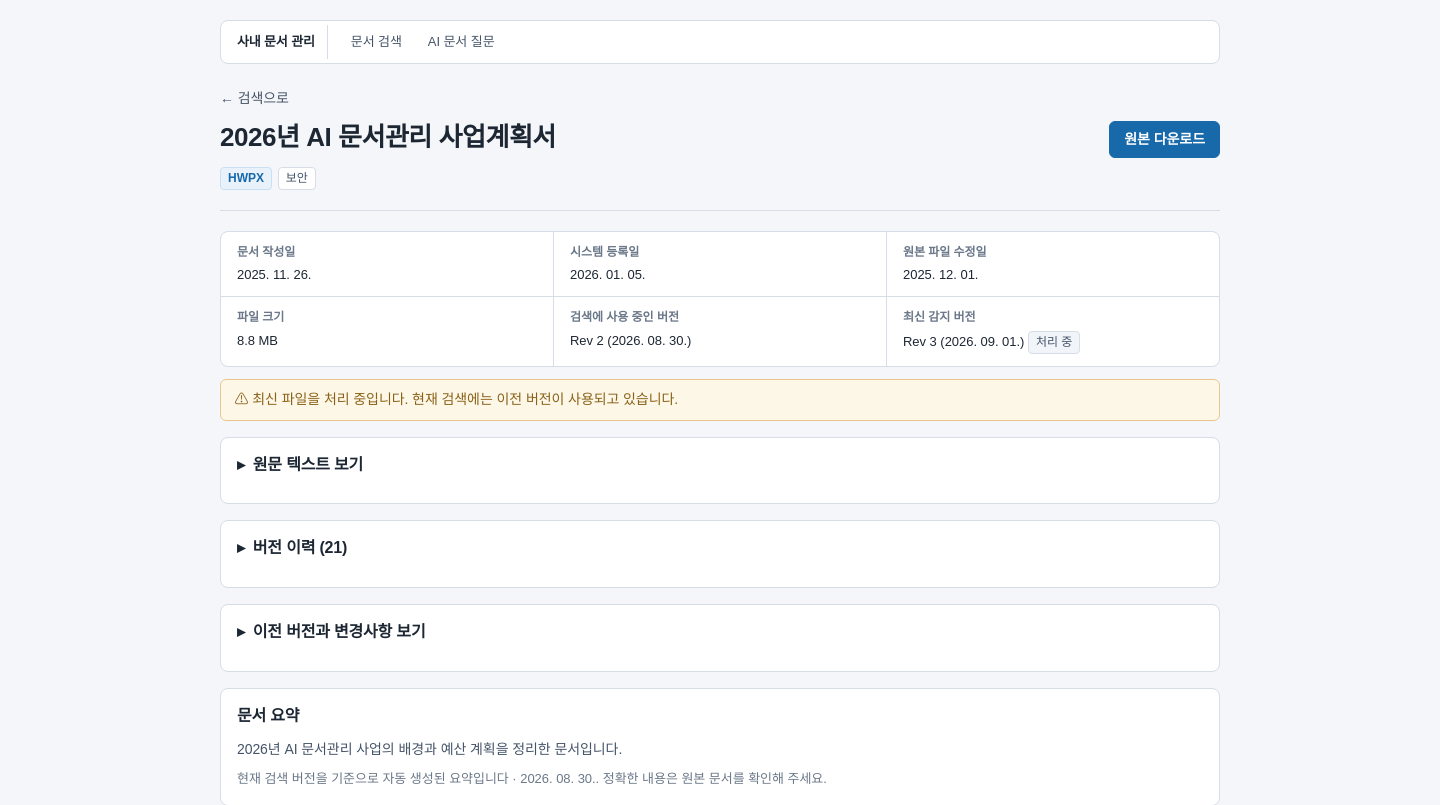
Test: DocumentPage › fetches older revisions using the history pagination envelope
Click the button "▸ 버전 이력 (21)". click: click(289, 548)
box: [237,538,1203,559]
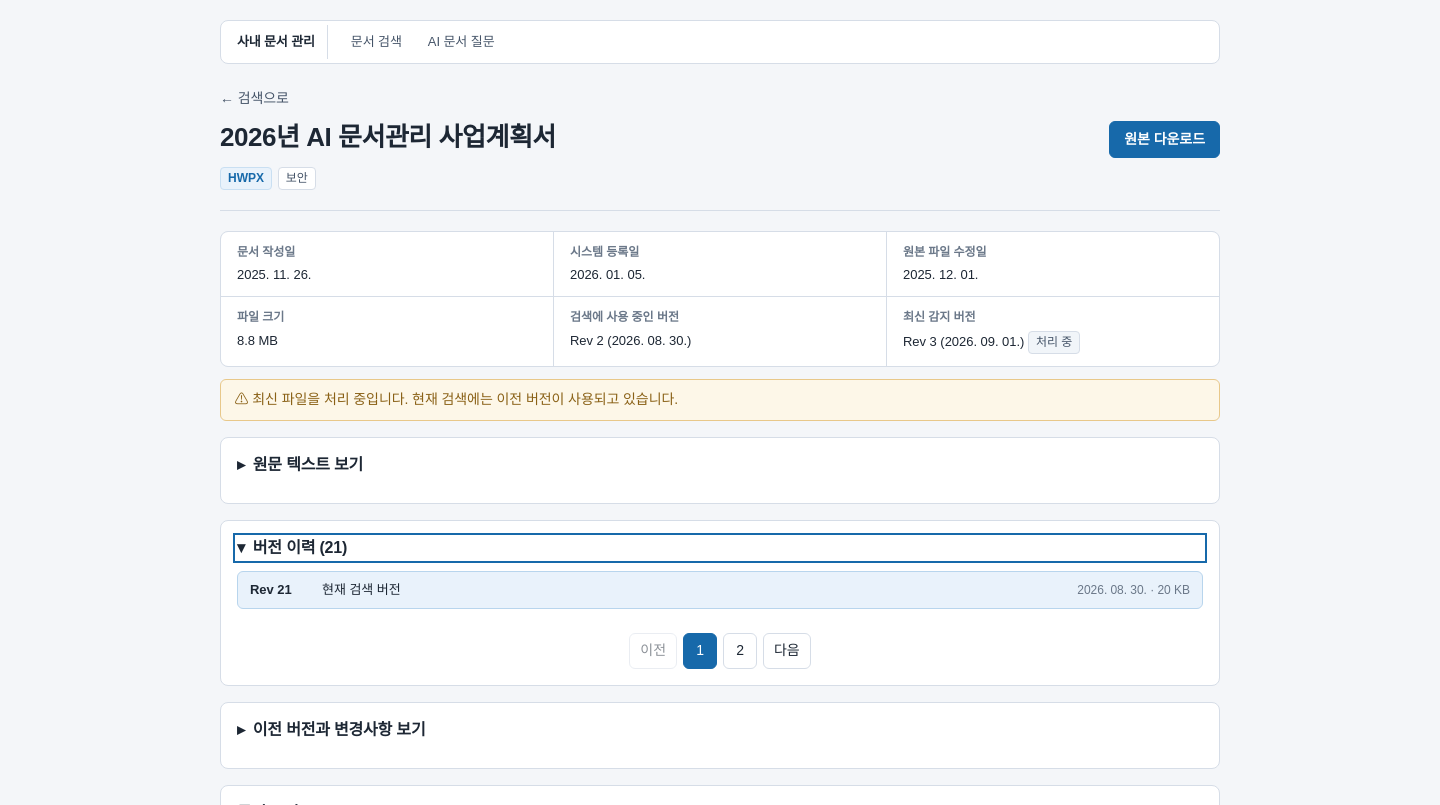
Check: the text "Rev 21" is shown, box [250,582,292,597]
Click the button "다음". click: click(787, 650)
box: [763,632,811,668]
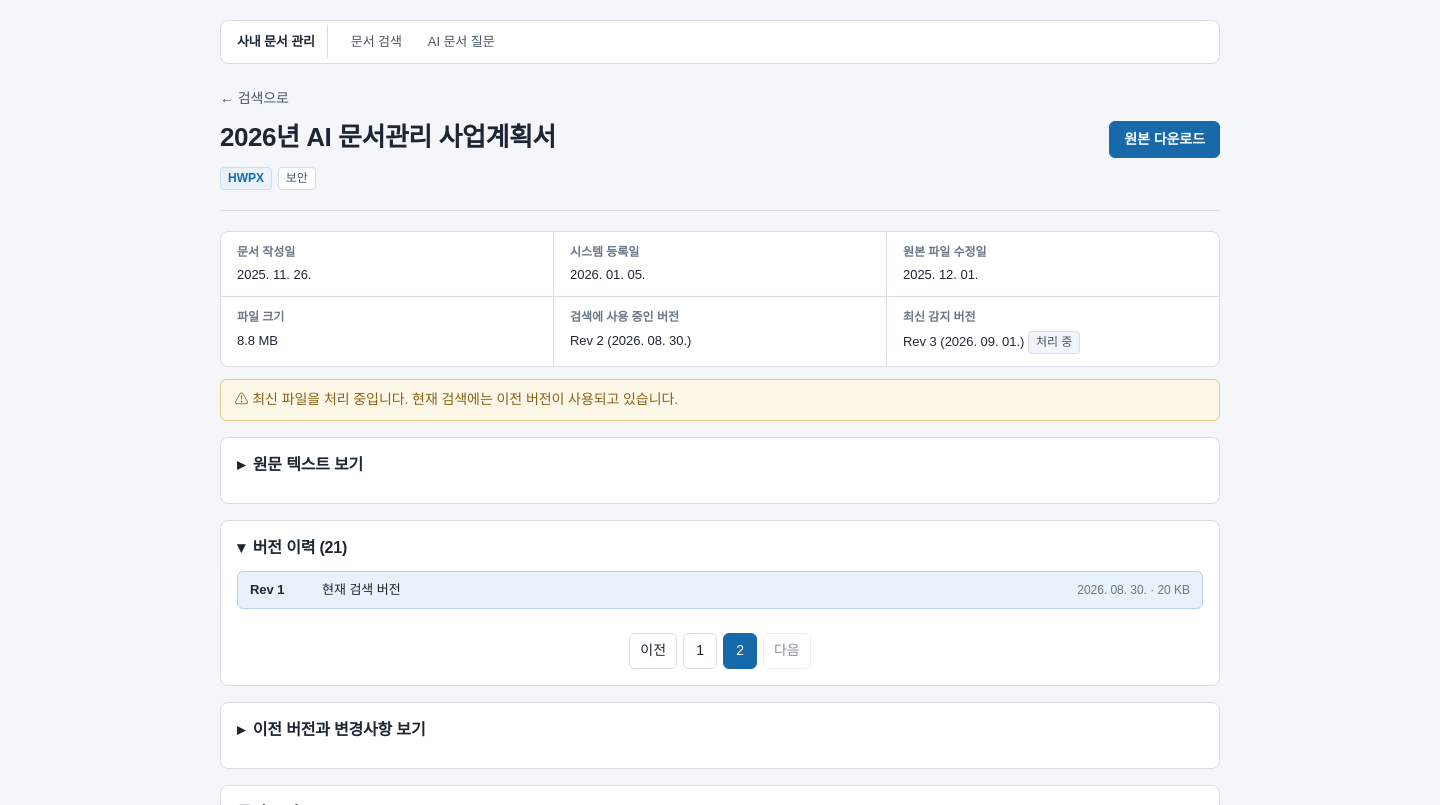
Check: the text "Rev 1" is shown, box [250,582,284,597]
Check: the text "Rev 21" is gone
